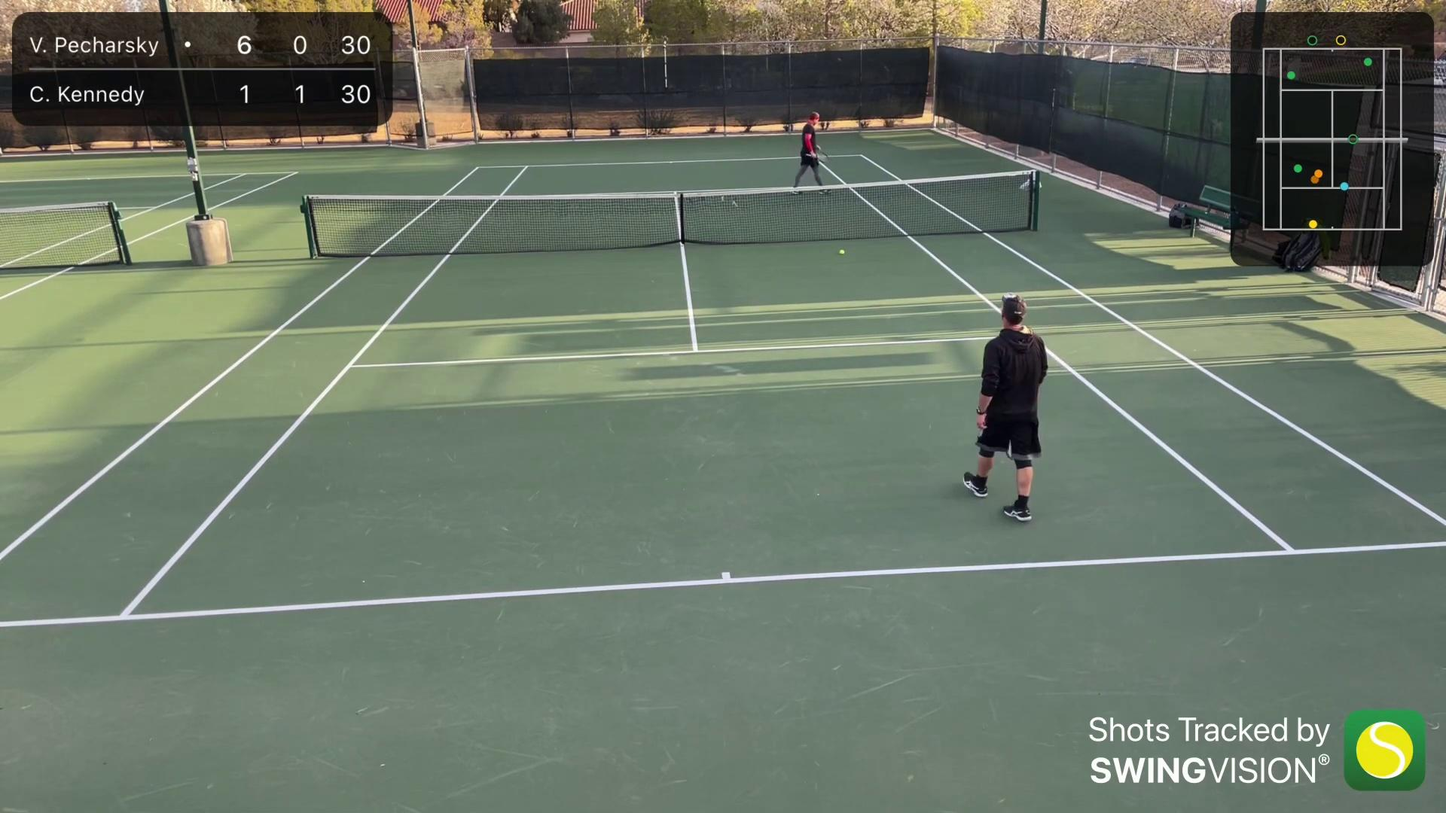ball: (839, 249, 846, 254)
